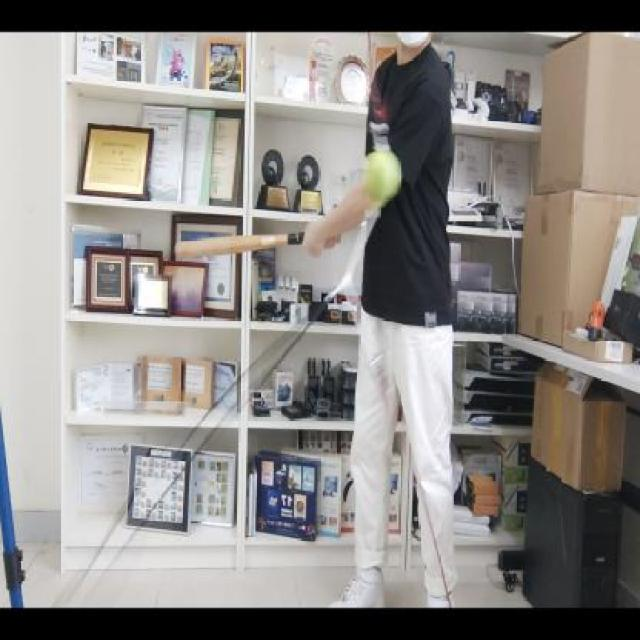baseball: (358, 148, 407, 209)
